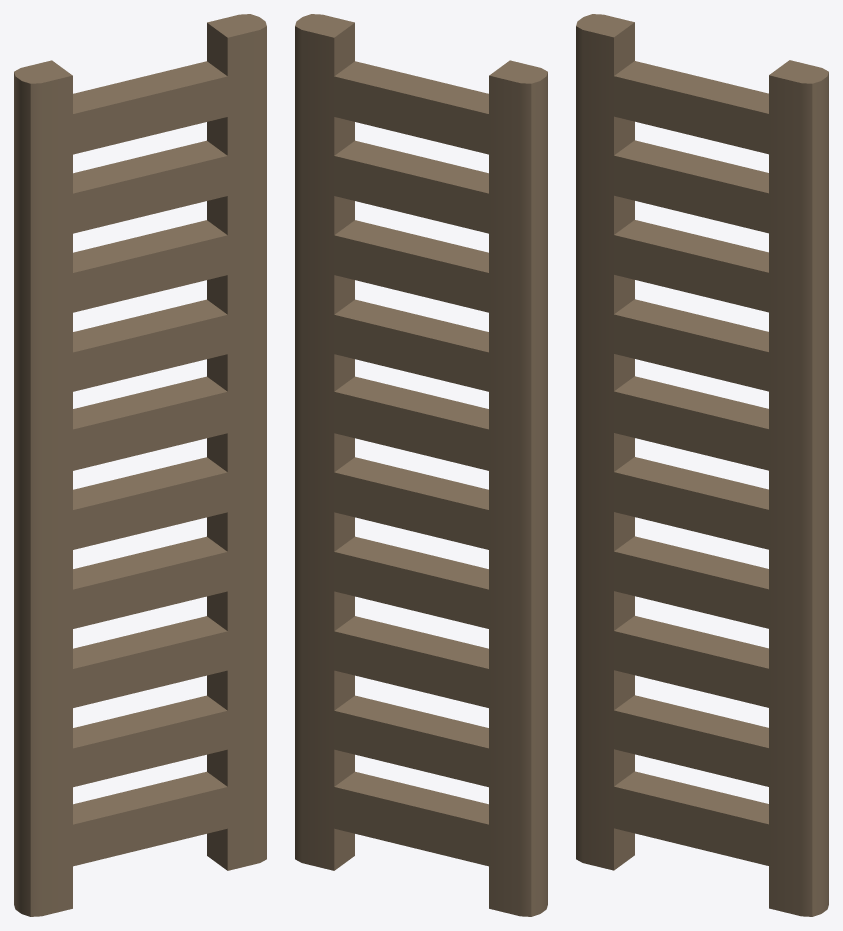
Rendered from EscaleraDeMano.fbx.
3 renders of one model, left to right at view 1: azimuth 30°, elevation 25°; view 2: azimuth 150°, elevation 25°; view 3: azimuth 330°, elevation 25°, orthographic.
Visible parts, largest first — view 1: Escalera; view 2: Escalera; view 3: Escalera.
Part boxes in pixels (left/top/right/bottom): Escalera: left=14, top=14, right=266, bottom=916; Escalera: left=295, top=14, right=547, bottom=916; Escalera: left=576, top=14, right=828, bottom=916.
Size of the model in its own units: 1.35 by 4.41 by 0.2.
